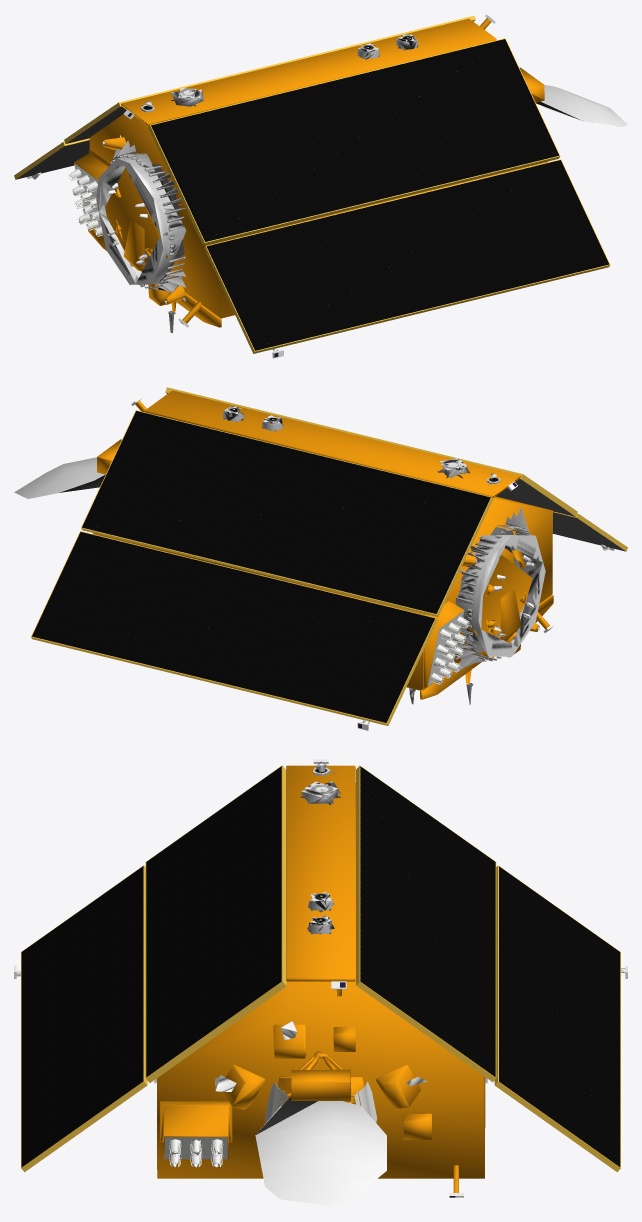
Rendered from jason-continuity-of-service-sentinel-6.glb.
3 renders of one model, top to bottom at view 1: azimuth 30°, elevation 25°; view 2: azimuth 150°, elevation 25°; view 3: azimuth 270°, elevation 25°, orthographic. The views are drawn at different scales.
Parts seen in each view (by area): view 1: array, BUS, GNSS_POD_RO_SPA, AMR; view 2: array, BUS, GNSS_POD_RO_SPA, AMR; view 3: array, BUS, AMR, GNSS_POD_RO_SPA.
Part boxes in pixels (left/top/right/bottom): array: left=14, top=15, right=610, bottom=353; BUS: left=16, top=14, right=579, bottom=358; GNSS_POD_RO_SPA: left=96, top=34, right=418, bottom=301; AMR: left=152, top=85, right=627, bottom=258; array: left=31, top=387, right=627, bottom=725; BUS: left=59, top=390, right=625, bottom=730; GNSS_POD_RO_SPA: left=223, top=406, right=545, bottom=673; AMR: left=14, top=457, right=519, bottom=652; array: left=21, top=765, right=620, bottom=1172; BUS: left=14, top=759, right=627, bottom=1197; AMR: left=255, top=1101, right=386, bottom=1207; GNSS_POD_RO_SPA: left=300, top=761, right=340, bottom=934.
Size of the model in its own units: 5.08 by 2.32 by 4.37.
8 materials, 8 textured.
